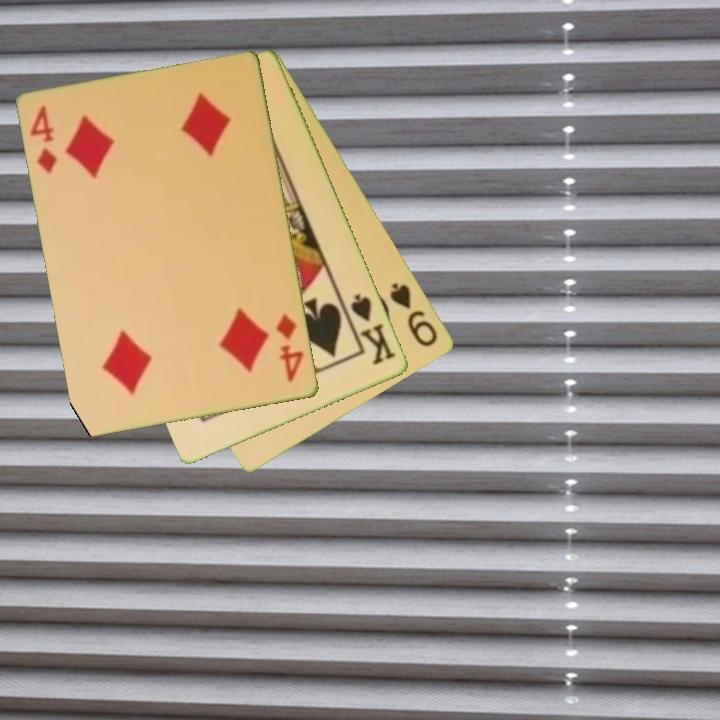4d: (273, 311, 307, 386), (27, 102, 61, 177)
9s: (386, 279, 441, 350)
Ks: (348, 290, 400, 368)
